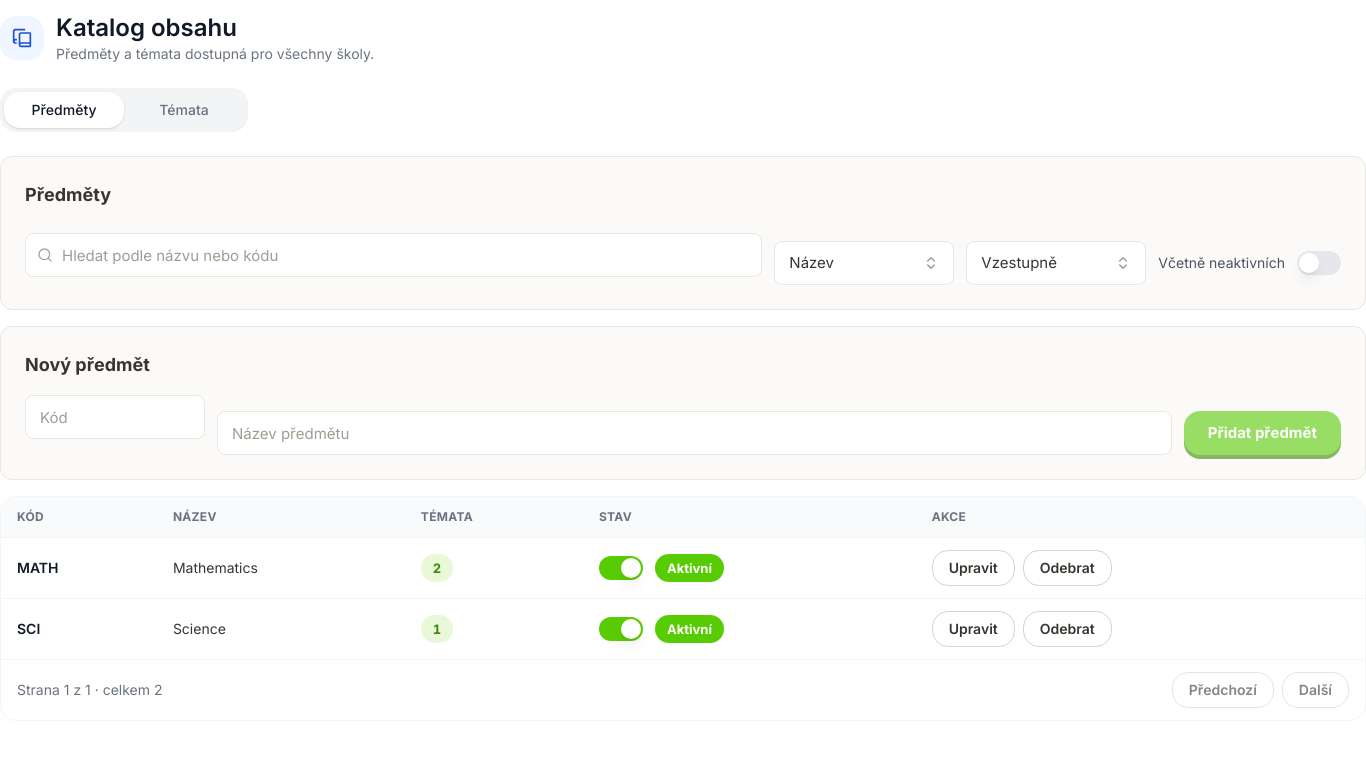
it: Platform catalog page › filters topics
The width and height of the screenshot is (1366, 780).
Click the tab "Témata" at (184, 110), box left=124, top=92, right=244, bottom=128
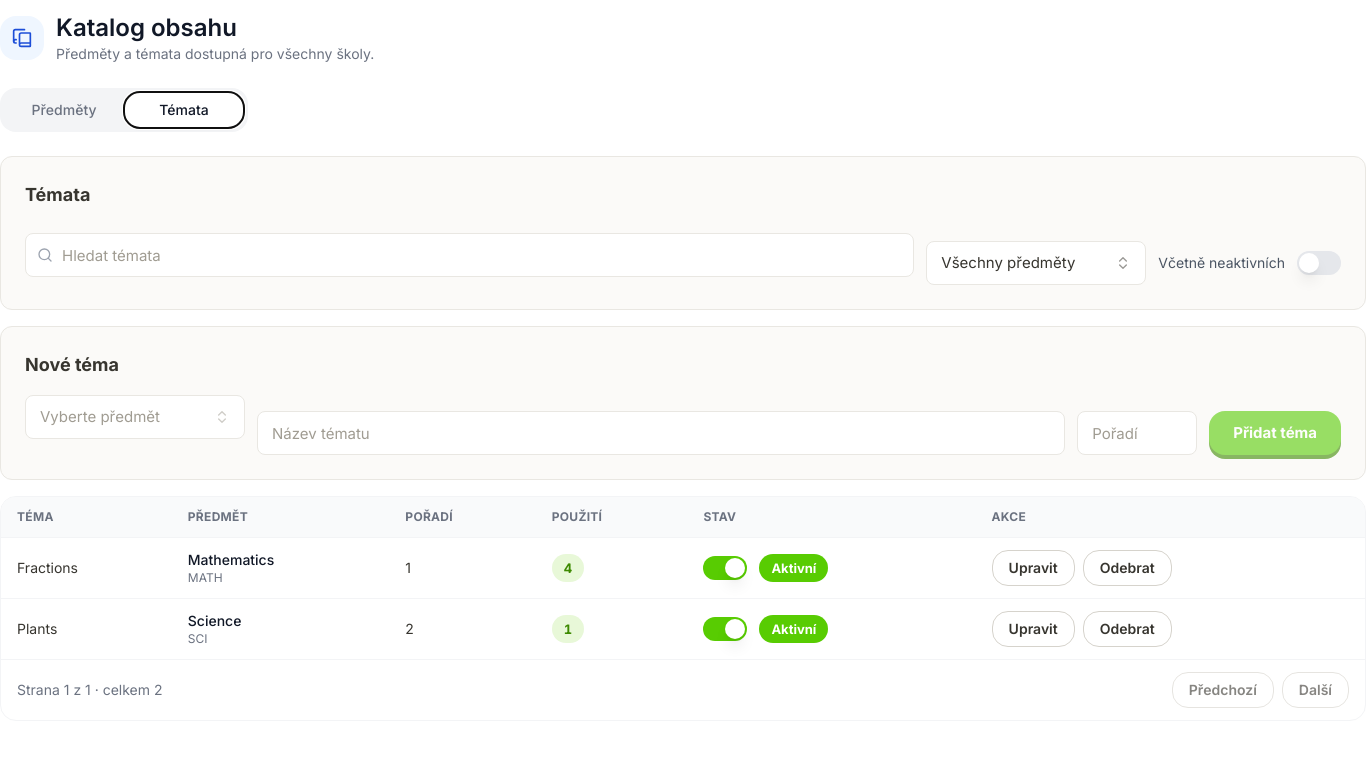
Type "plant" into the field labelled "Hledat témata" at (470, 255), box left=25, top=233, right=914, bottom=277
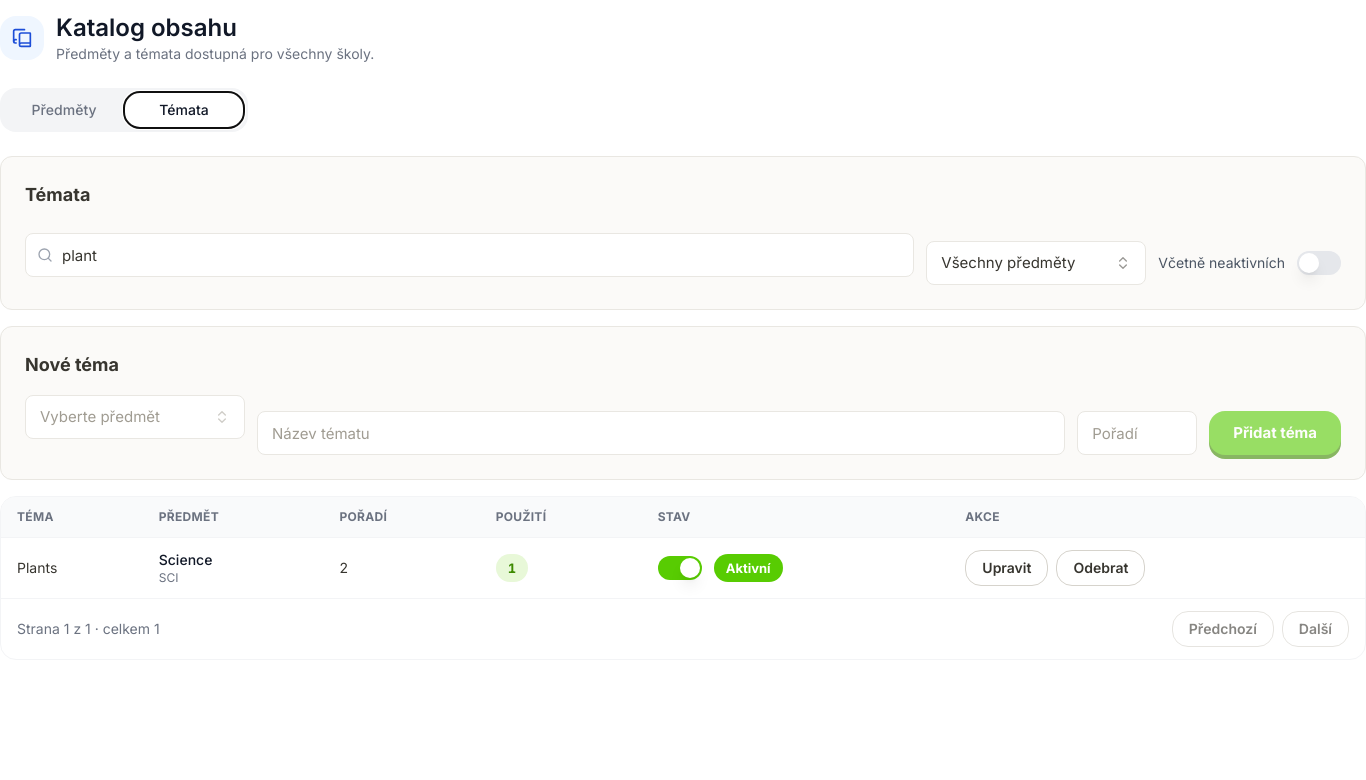
Result: the text "Fractions" is not shown
